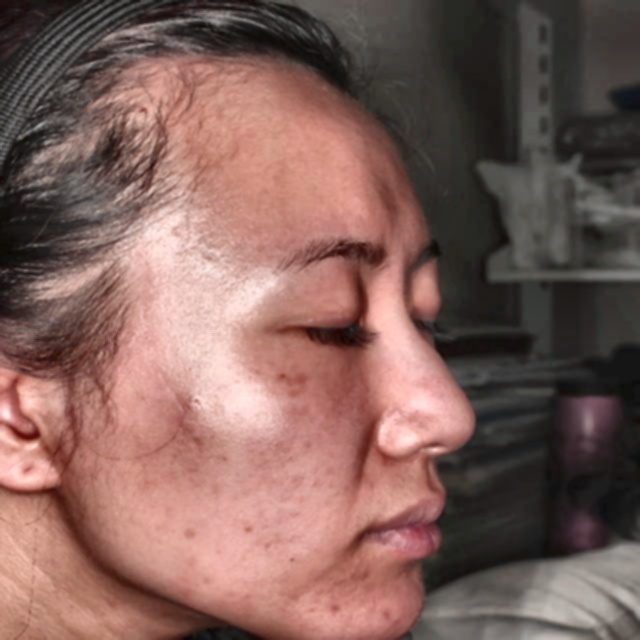comedone: (169, 388, 207, 420)
